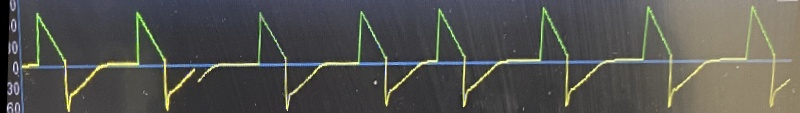normal_flow: (20, 0, 797, 113)
